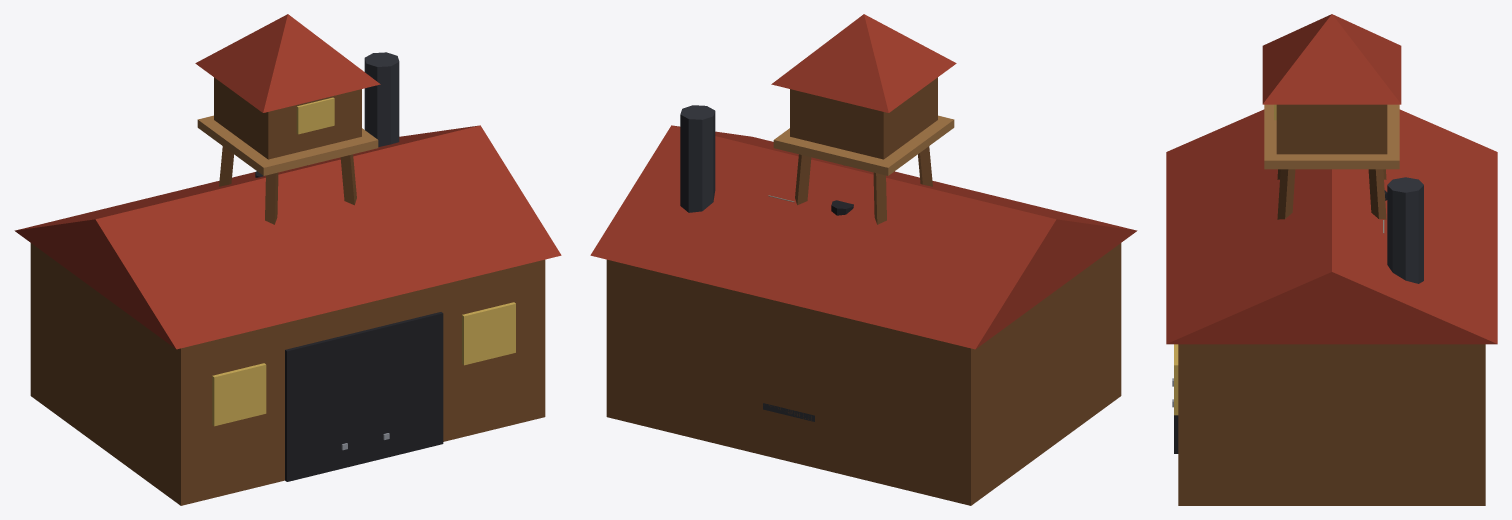
The model's file is aserradero.glb.
The picture shows the model from 3 angles, left to right: view 1: azimuth 30°, elevation 25°; view 2: azimuth 150°, elevation 25°; view 3: azimuth 270°, elevation 25°; orthographic projection. The views are drawn at different scales.
Visible parts, largest first — view 1: sawmill_building, watchtower; view 2: sawmill_building, watchtower; view 3: sawmill_building, watchtower.
Part boxes in pixels (x1,y1,x2,y2): sawmill_building: (14, 52, 561, 505); watchtower: (195, 14, 380, 224); sawmill_building: (590, 105, 1137, 505); watchtower: (771, 14, 956, 224); sawmill_building: (1166, 109, 1497, 505); watchtower: (1262, 14, 1401, 219).
Bounding box in the file's own units: 7.4 × 7.76 × 5.4.
